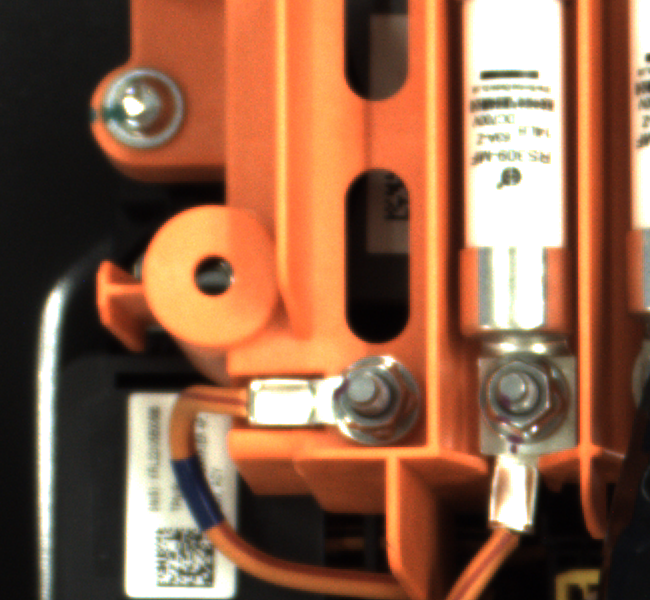screw_s: (82, 63, 206, 151), (474, 351, 589, 438), (319, 354, 414, 436)
